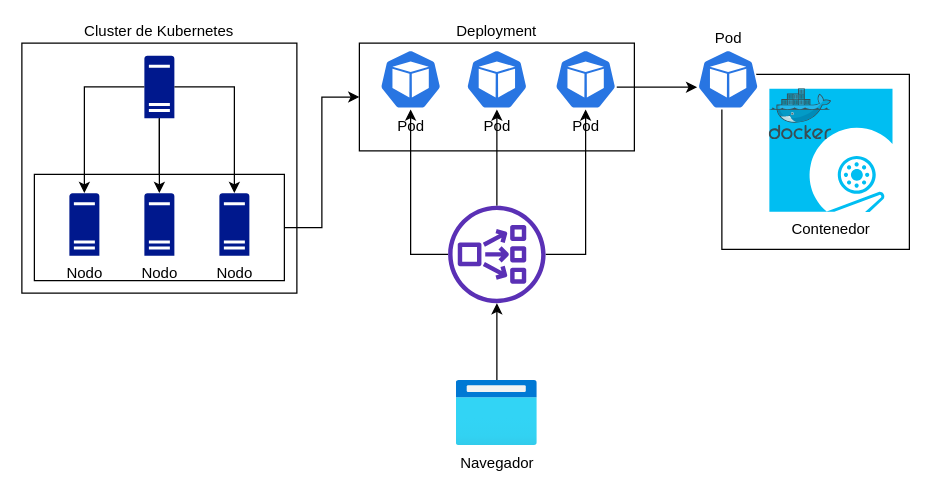
Image size: 931x493. Some labels were removed from this diagram. The centre of each missing label's shape, as x and y in pixels:
Master: (159,86)
Service: (496,253)
